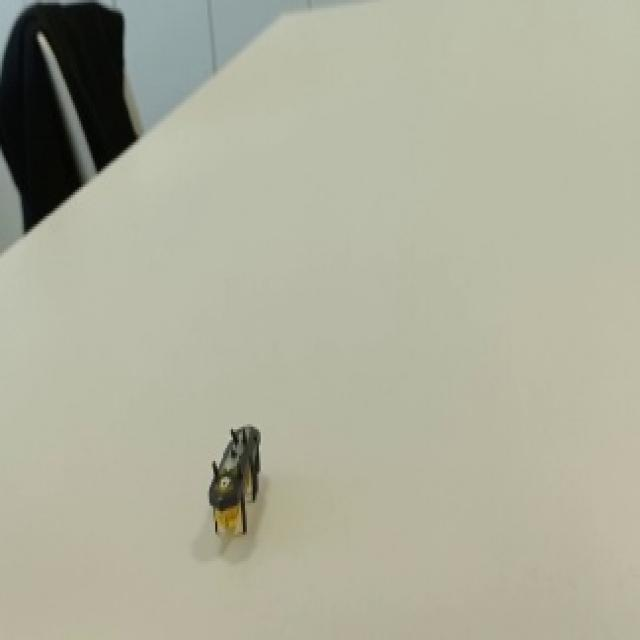6_NanoBug_GrisOscuro: (191, 422, 274, 560)
